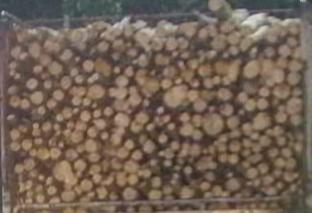medium: (165, 86, 187, 109), (202, 113, 223, 135), (54, 161, 72, 180), (197, 25, 217, 42), (195, 156, 217, 171), (243, 60, 260, 79), (228, 60, 242, 82), (87, 83, 106, 99), (95, 58, 111, 76), (254, 113, 272, 129), (211, 35, 227, 52), (142, 79, 159, 94), (259, 60, 274, 76), (288, 98, 303, 114), (45, 40, 61, 54), (135, 69, 149, 85), (239, 36, 253, 52), (273, 87, 290, 100), (114, 113, 129, 127), (48, 61, 62, 75), (30, 91, 44, 105), (218, 22, 234, 34), (225, 179, 241, 191), (123, 188, 140, 199), (70, 130, 83, 144), (219, 103, 233, 116), (214, 62, 229, 74), (217, 89, 232, 101), (288, 60, 304, 71), (246, 155, 263, 165), (113, 87, 127, 99), (226, 32, 240, 44), (180, 124, 194, 136), (115, 174, 127, 188), (244, 167, 258, 179), (30, 42, 40, 58), (124, 162, 140, 172), (86, 126, 99, 138), (85, 140, 98, 152), (19, 181, 32, 193), (115, 75, 128, 87), (128, 93, 141, 105), (135, 112, 148, 124), (226, 117, 238, 130), (110, 158, 123, 170), (279, 44, 291, 57), (251, 30, 264, 42), (93, 119, 107, 130), (154, 54, 168, 65), (180, 186, 194, 197), (9, 95, 21, 107), (74, 159, 86, 171), (81, 179, 93, 191), (130, 121, 142, 133), (181, 70, 193, 82), (194, 99, 206, 111), (283, 171, 295, 183), (60, 76, 71, 89), (66, 149, 79, 160), (115, 100, 128, 111), (112, 40, 125, 51), (61, 191, 75, 201), (147, 190, 161, 200), (61, 49, 73, 60), (83, 60, 94, 72), (79, 110, 91, 121), (50, 148, 62, 159), (96, 187, 107, 199), (166, 38, 177, 50), (164, 66, 176, 77), (177, 38, 189, 49), (199, 65, 211, 76), (118, 148, 130, 159), (261, 175, 273, 186), (24, 158, 34, 171), (138, 54, 148, 67), (87, 152, 101, 161), (53, 90, 64, 101), (38, 148, 49, 159), (152, 39, 163, 50), (151, 177, 162, 188), (41, 54, 51, 66), (61, 107, 73, 117), (145, 140, 155, 152), (260, 136, 272, 146), (267, 148, 279, 158), (272, 159, 284, 169), (182, 142, 191, 155), (42, 122, 52, 133), (22, 139, 32, 150), (89, 165, 100, 175), (97, 41, 108, 51), (193, 116, 203, 127), (190, 144, 200, 155), (200, 180, 210, 191), (127, 175, 138, 185), (285, 158, 295, 169), (203, 172, 215, 181), (47, 185, 57, 195), (276, 136, 286, 146), (282, 148, 292, 158), (76, 121, 87, 130), (10, 129, 19, 140), (251, 143, 262, 152), (66, 176, 78, 184), (104, 149, 116, 157), (21, 99, 30, 109), (8, 85, 18, 94), (11, 142, 21, 151), (170, 140, 179, 150), (126, 48, 137, 56), (191, 131, 202, 139), (267, 34, 278, 42), (75, 75, 84, 84), (132, 151, 142, 159), (44, 79, 52, 88), (93, 174, 101, 183)
small: (270, 69, 284, 82), (242, 82, 256, 94), (26, 78, 38, 90), (87, 73, 99, 84), (124, 139, 136, 150), (290, 114, 303, 124), (230, 141, 241, 152), (245, 99, 256, 110), (257, 99, 268, 110), (287, 74, 299, 84), (203, 78, 214, 88), (188, 91, 199, 101), (110, 135, 121, 145), (228, 154, 239, 164), (212, 186, 223, 196), (162, 184, 172, 195), (287, 37, 298, 47), (11, 46, 20, 58), (158, 134, 170, 143), (201, 91, 214, 99), (227, 130, 240, 138), (71, 96, 81, 106), (162, 79, 172, 89), (114, 125, 124, 135), (265, 46, 275, 56), (293, 130, 303, 140), (124, 66, 133, 77), (205, 50, 216, 59), (243, 124, 252, 135), (257, 164, 268, 173), (250, 46, 258, 58), (294, 46, 301, 59), (47, 99, 56, 109), (36, 193, 45, 203), (229, 46, 238, 56), (184, 166, 194, 175), (277, 58, 287, 67), (238, 92, 247, 102), (274, 127, 284, 136), (162, 160, 173, 168), (218, 133, 229, 141), (217, 155, 228, 163), (139, 170, 150, 178), (19, 52, 28, 61), (213, 76, 222, 85), (164, 149, 173, 158), (68, 87, 78, 95), (103, 108, 113, 116), (14, 165, 24, 173), (223, 76, 231, 86), (276, 114, 286, 122), (242, 139, 252, 147), (241, 160, 251, 168), (295, 145, 302, 156), (266, 188, 277, 195), (33, 65, 42, 73), (77, 87, 86, 95), (93, 109, 101, 118), (18, 125, 27, 133), (189, 60, 197, 69), (180, 113, 189, 121), (161, 115, 170, 123), (139, 135, 147, 144), (208, 145, 216, 154), (218, 143, 226, 152), (260, 88, 269, 96), (267, 78, 275, 87), (242, 149, 251, 157), (274, 168, 282, 177), (109, 87, 116, 97), (204, 192, 215, 198), (83, 98, 91, 106), (56, 114, 64, 122), (191, 79, 199, 87), (167, 122, 175, 130), (294, 88, 302, 96), (38, 106, 45, 115), (70, 69, 79, 76), (67, 120, 74, 129), (28, 170, 37, 177), (177, 151, 186, 158), (109, 192, 118, 199), (266, 129, 275, 136), (9, 62, 17, 69), (101, 132, 109, 139), (34, 138, 42, 145), (46, 177, 53, 185), (75, 187, 82, 195), (130, 86, 137, 94), (157, 107, 164, 115), (49, 198, 60, 203), (103, 159, 108, 170), (111, 53, 120, 59), (225, 172, 234, 178), (113, 67, 120, 74), (30, 149, 37, 156), (77, 145, 84, 152), (150, 69, 157, 76), (150, 160, 157, 167), (287, 133, 294, 140), (7, 115, 15, 121), (14, 72, 20, 80), (33, 129, 41, 135), (63, 130, 71, 136), (36, 185, 42, 193), (25, 191, 33, 197), (147, 124, 153, 132), (301, 51, 306, 60), (91, 101, 97, 108), (54, 124, 61, 130), (49, 139, 56, 145), (143, 99, 149, 106), (181, 53, 188, 59), (178, 61, 185, 67), (154, 117, 160, 124), (157, 151, 164, 157), (254, 180, 260, 187), (276, 183, 283, 189), (289, 185, 295, 192), (176, 159, 184, 164), (173, 166, 181, 171), (73, 108, 79, 114), (80, 198, 89, 202), (88, 192, 94, 198), (145, 45, 151, 51), (172, 51, 178, 57), (199, 56, 205, 62), (223, 52, 229, 58), (208, 106, 214, 112), (173, 174, 179, 180), (9, 70, 16, 75), (59, 141, 64, 148), (77, 171, 82, 178), (175, 79, 182, 84), (158, 121, 165, 126), (279, 106, 286, 111), (252, 134, 259, 139), (245, 181, 252, 186), (298, 188, 303, 195), (222, 192, 230, 196), (75, 57, 81, 62), (33, 123, 39, 128), (56, 130, 61, 136), (38, 175, 44, 180), (132, 59, 138, 64), (197, 50, 203, 55), (188, 158, 194, 163), (18, 175, 22, 182), (25, 199, 32, 203), (127, 110, 132, 114), (203, 149, 208, 153), (172, 180, 176, 184), (213, 141, 218, 144)
